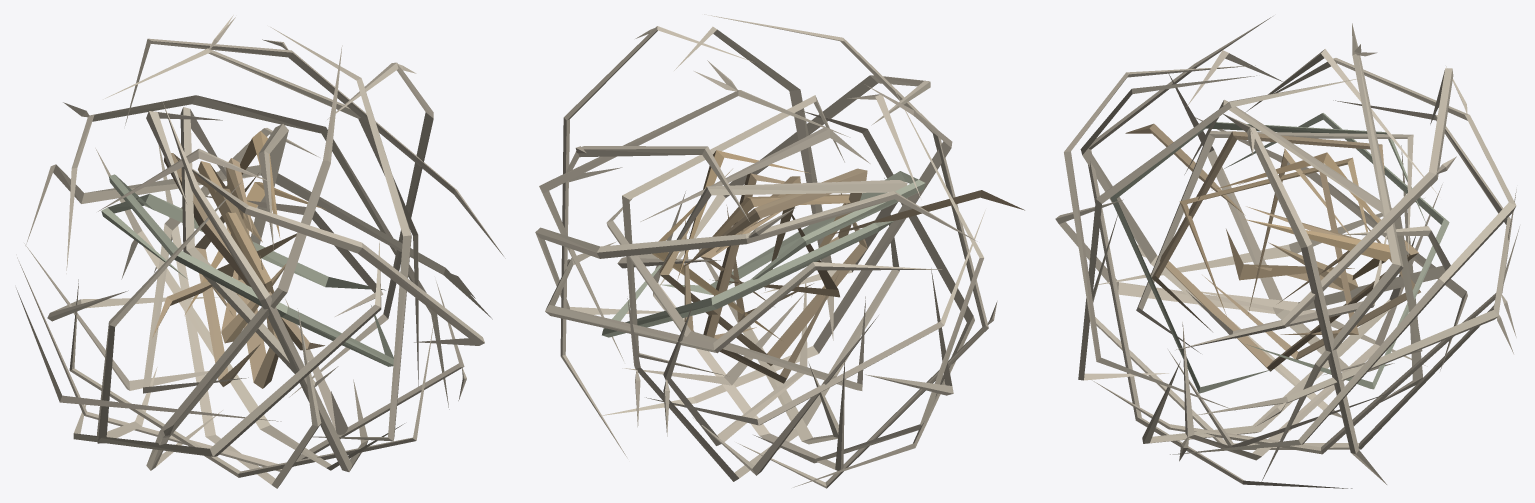
3 renders of one model, left to right at view 1: azimuth 30°, elevation 25°; view 2: azimuth 150°, elevation 25°; view 3: azimuth 270°, elevation 25°, orthographic.
Visible parts, largest first — view 1: patch_1; view 2: patch_1; view 3: patch_1.
Part boxes in pixels (x1,y1,x2,y2): patch_1: (16,15,505,488); patch_1: (535,14,1024,488); patch_1: (1055,16,1519,488).
Size of the model in its own units: 0.7918 by 0.7655 by 0.7697.
